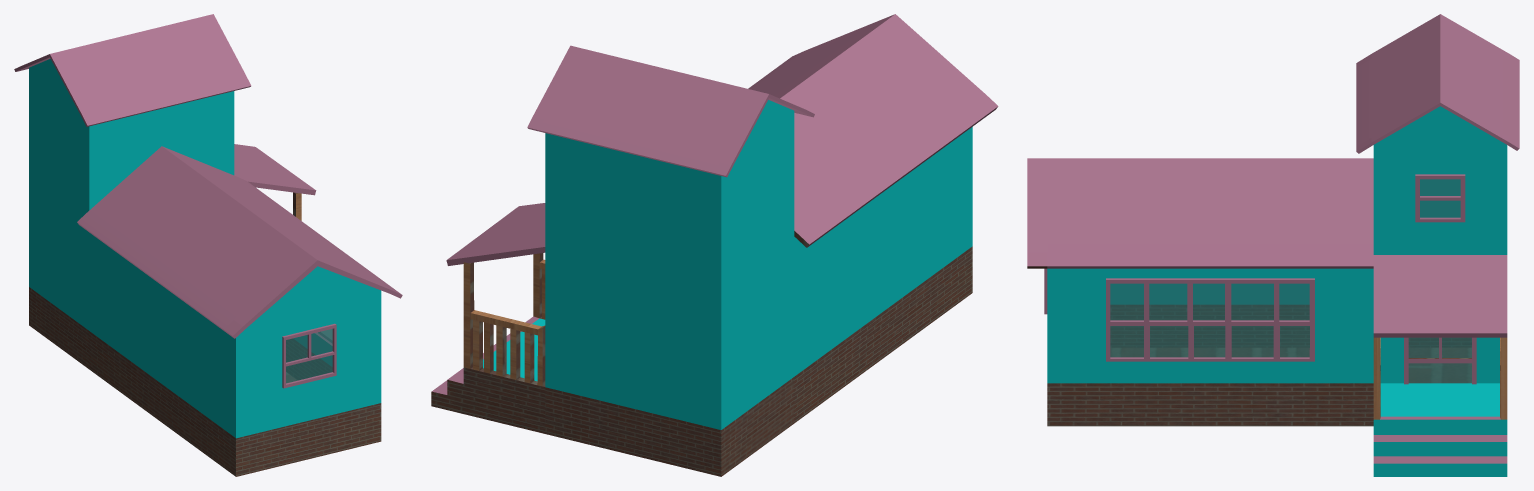
Rendered from casa2.fbx.
The picture shows the model from 3 angles, left to right: view 1: azimuth 30°, elevation 25°; view 2: azimuth 150°, elevation 25°; view 3: azimuth 270°, elevation 25°; orthographic projection. The views are drawn at different scales.
Parts seen in each view (by area): view 1: pCube1; view 2: pCube1; view 3: pCube1.
Boxes of the visible parts, left/top/right/bottom form: pCube1: left=14, top=14, right=402, bottom=476; pCube1: left=431, top=14, right=998, bottom=476; pCube1: left=1027, top=14, right=1519, bottom=476.
Bounding box in the file's own units: 9.67 × 10.88 × 14.77.
5 materials, 2 textured.
